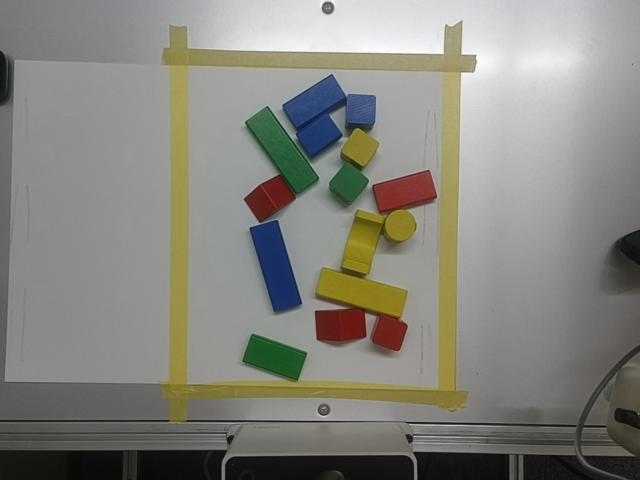blue_cube: (346, 95, 375, 126)
blue_longrect: (251, 221, 301, 312)
blue_rect: (284, 74, 346, 129)
cylinder: (386, 211, 416, 241)
green_cube: (329, 163, 370, 204)
green_longrect: (245, 108, 319, 195)
green_rect: (243, 334, 308, 380)
half_cylinder: (297, 115, 341, 156)
red_cube: (371, 315, 408, 352)
red_rect: (374, 169, 437, 213)
triangle: (244, 175, 297, 223), (316, 310, 366, 340)
yellow_archrect: (342, 209, 384, 273)
yellow_cube: (341, 128, 379, 168)
yellow_longrect: (316, 268, 409, 318)
